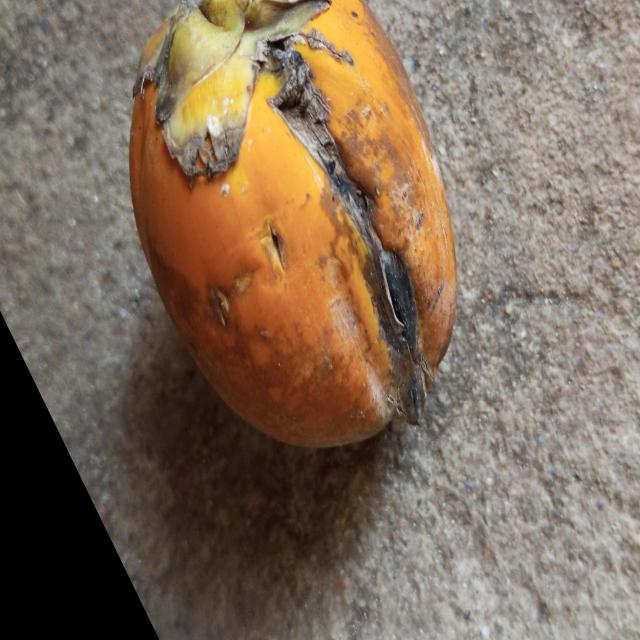damaged: (128, 0, 459, 452)
